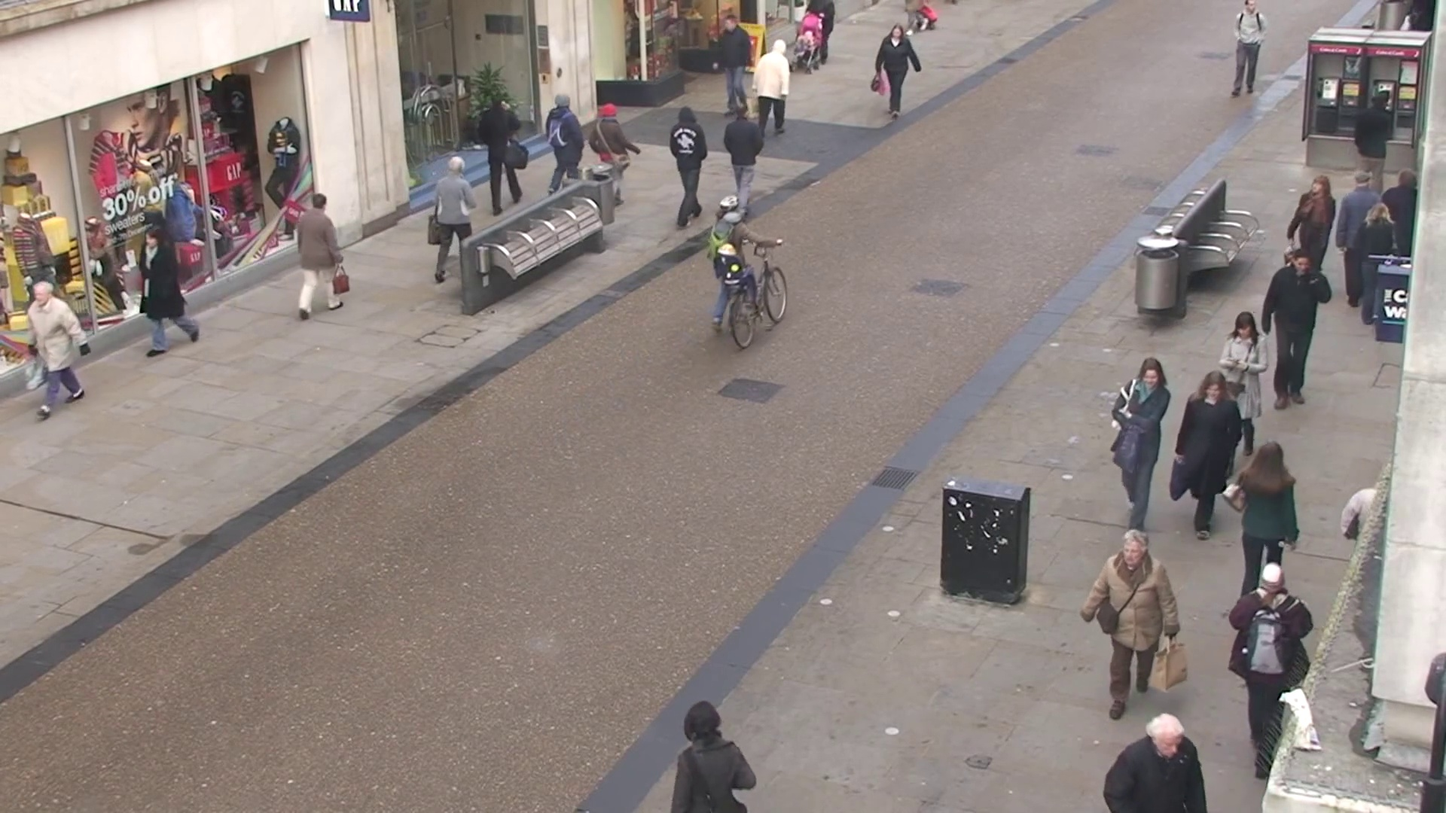person: (1225, 562, 1317, 787), (1081, 528, 1179, 725), (1171, 370, 1247, 540), (1223, 440, 1301, 598), (1259, 246, 1334, 409), (1109, 358, 1171, 535), (1102, 712, 1208, 813), (128, 222, 195, 369), (671, 701, 758, 813), (569, 76, 638, 208), (25, 278, 89, 419), (1353, 160, 1405, 305), (292, 188, 349, 318), (427, 154, 476, 286), (1280, 165, 1322, 315), (1219, 310, 1266, 434), (477, 95, 526, 212), (669, 108, 709, 227), (723, 103, 765, 212), (874, 21, 920, 119), (714, 7, 755, 116), (752, 36, 791, 141), (1229, 1, 1268, 100), (545, 97, 585, 188)
